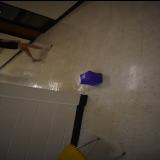cube: (79, 70, 103, 86)
